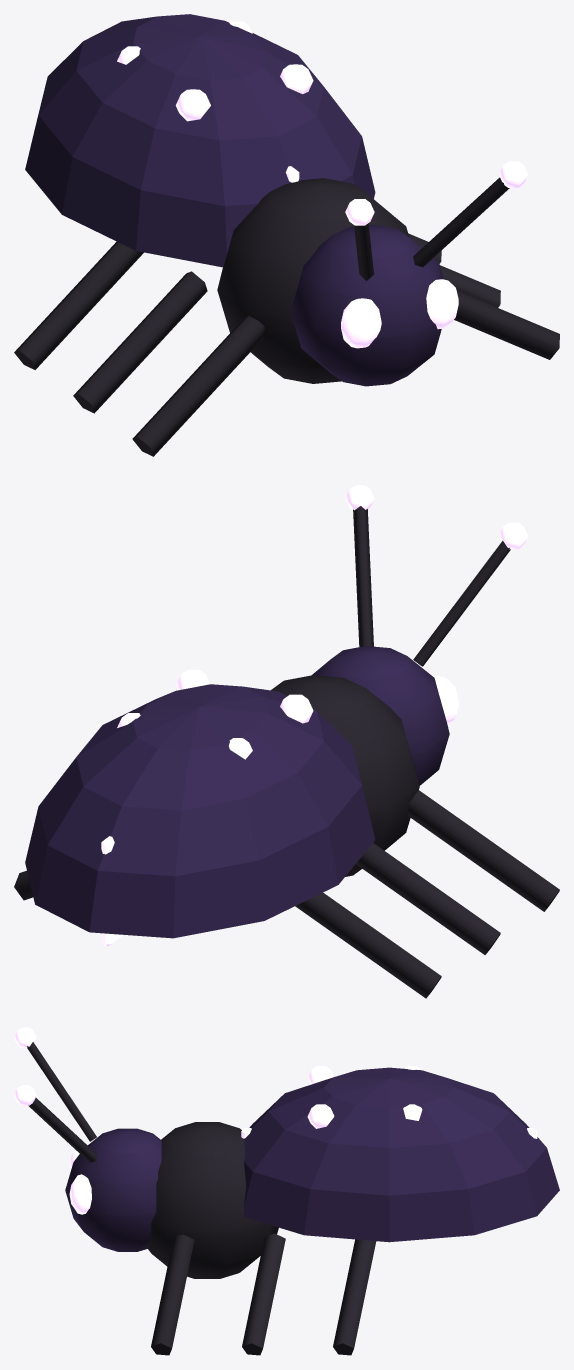
The model's file is monster_void_spider.glb.
3 views of the same model, one above another, from view 1: azimuth 30°, elevation 25°; view 2: azimuth 150°, elevation 25°; view 3: azimuth 270°, elevation 25° (orthographic). The views are drawn at different scales.
Visible parts, largest first — view 1: body_t0_palette, body_t0_glow_violet; view 2: body_t0_palette, body_t0_glow_violet; view 3: body_t0_palette, body_t0_glow_violet.
Boxes of the visible parts, <box> form: body_t0_palette: <box>14,14,559,456</box>; body_t0_glow_violet: <box>117,21,528,348</box>; body_t0_palette: <box>14,506,559,998</box>; body_t0_glow_violet: <box>101,485,528,946</box>; body_t0_palette: <box>27,1042,559,1355</box>; body_t0_glow_violet: <box>14,1027,537,1214</box>.
Bounding box in the file's own units: 0.3299 × 0.217 × 0.48.
